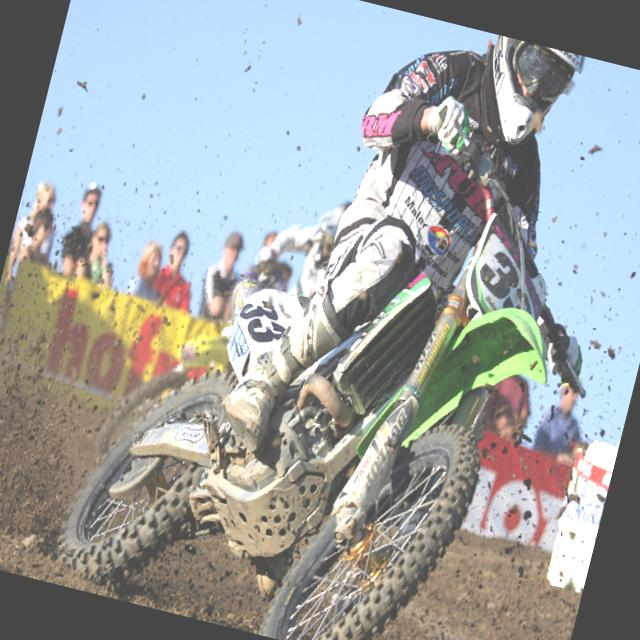Vehicle: (52, 67, 637, 640)
